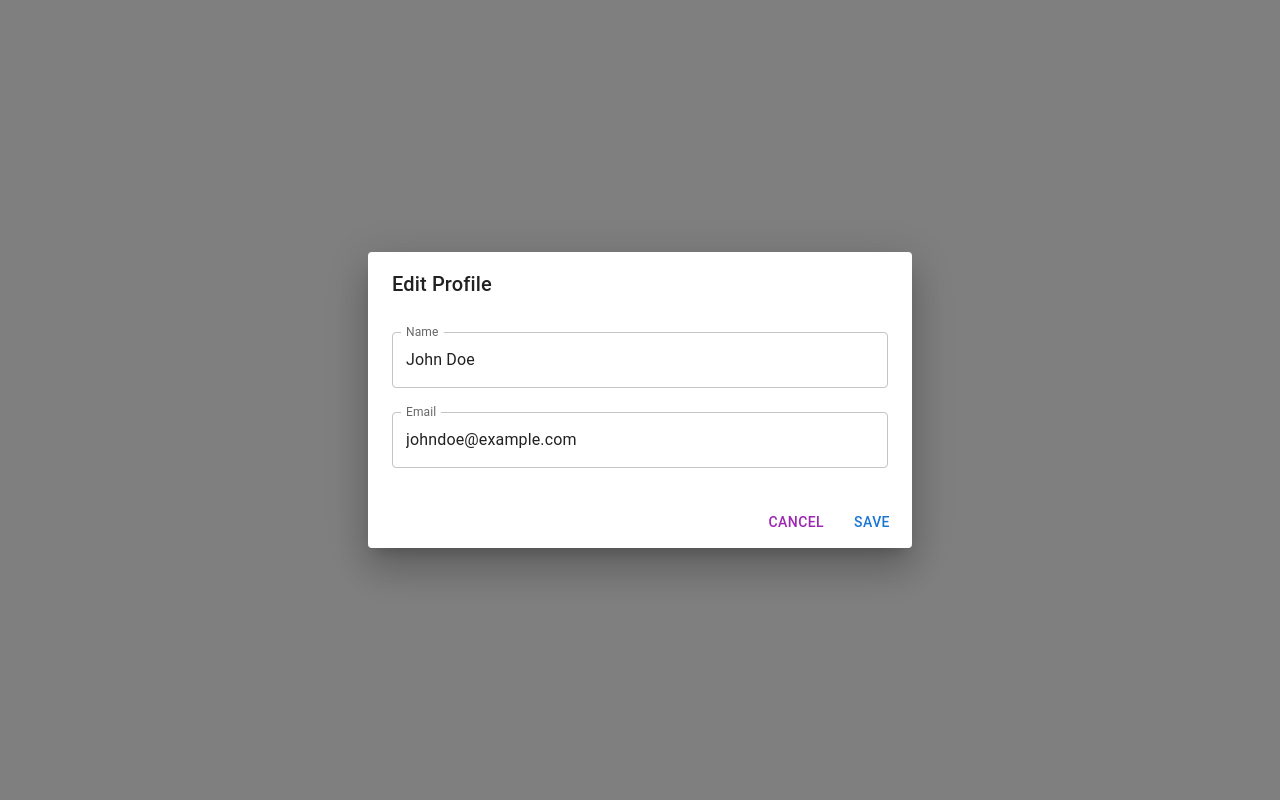
EditProfile Component › displays error message on profile update failure
The image size is (1280, 800).
Click the button "Save" at (872, 522), box [840,504,904,540]
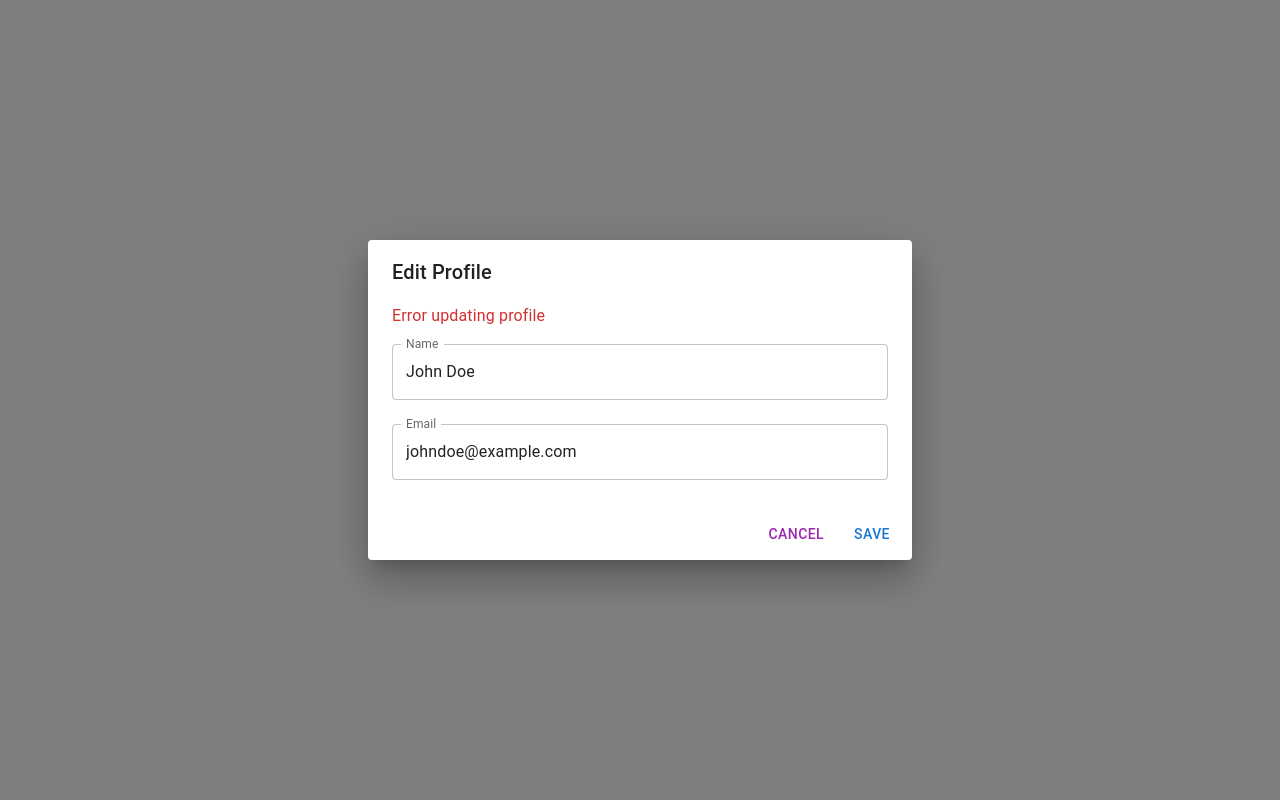
expect the text "Error updating profile" is shown: met, box [392,306,545,325]
